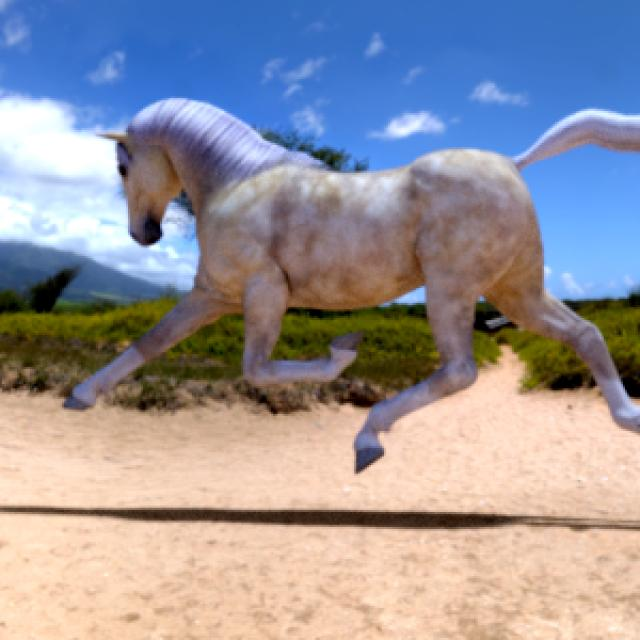horse: (65, 99, 640, 469)
